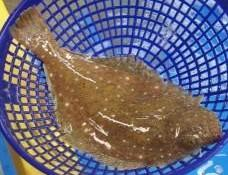fish: (11, 5, 224, 169)
